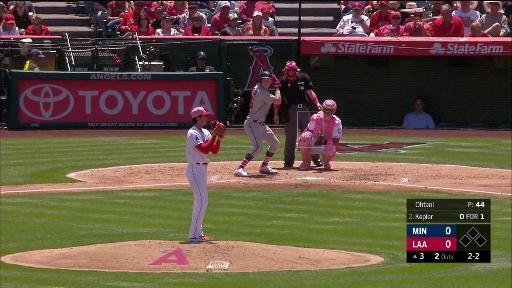pitcher: (186, 106, 230, 242)
